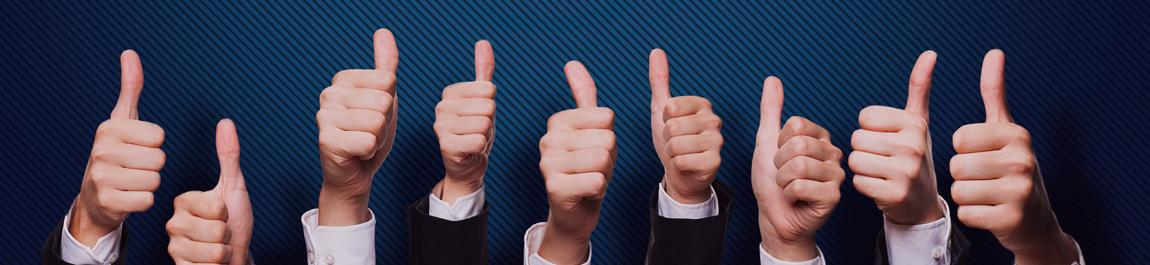thumbsup: (949, 48, 1034, 232), (848, 48, 938, 202), (89, 48, 166, 210), (756, 74, 845, 212), (166, 117, 244, 265), (538, 59, 617, 201), (316, 28, 399, 159), (649, 48, 725, 177), (430, 39, 498, 155)
